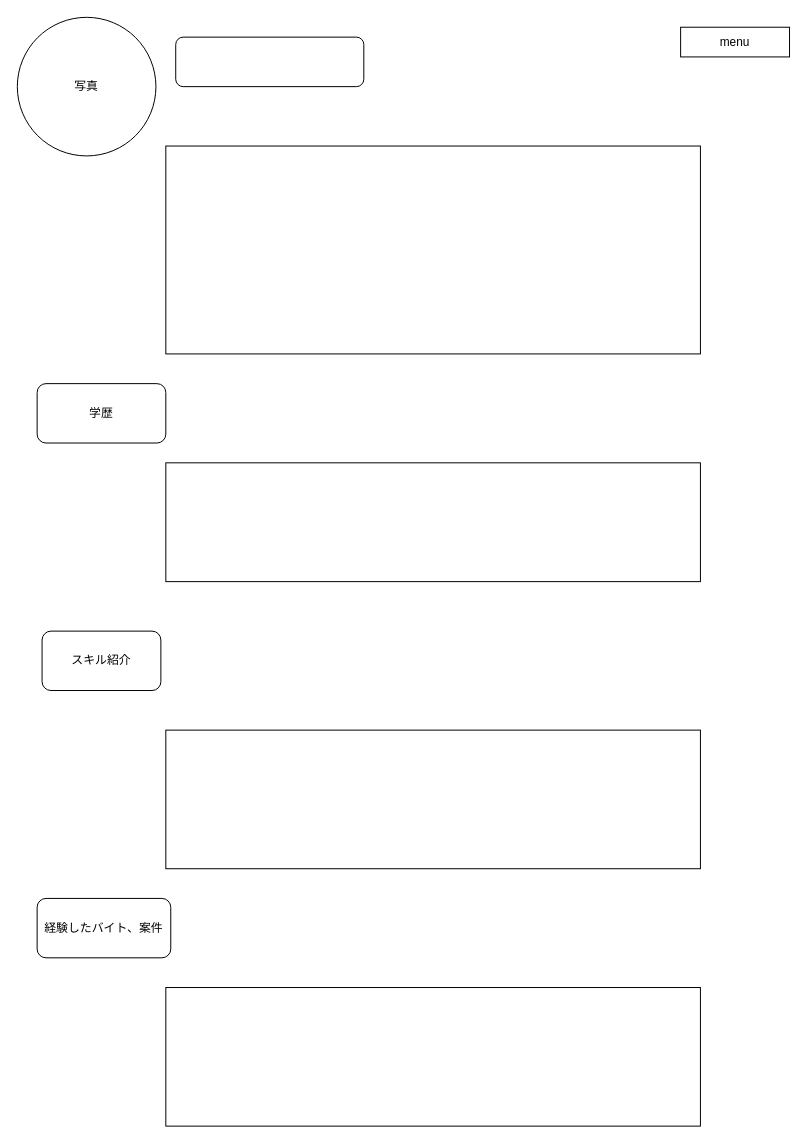
This 807x1143 diagram has some shape labels left out. Here are the shapes that lost their labels. From the top down, the centre of each, then its label:
At point 269,61: "名前".
At point 432,249: "自己紹介文".
